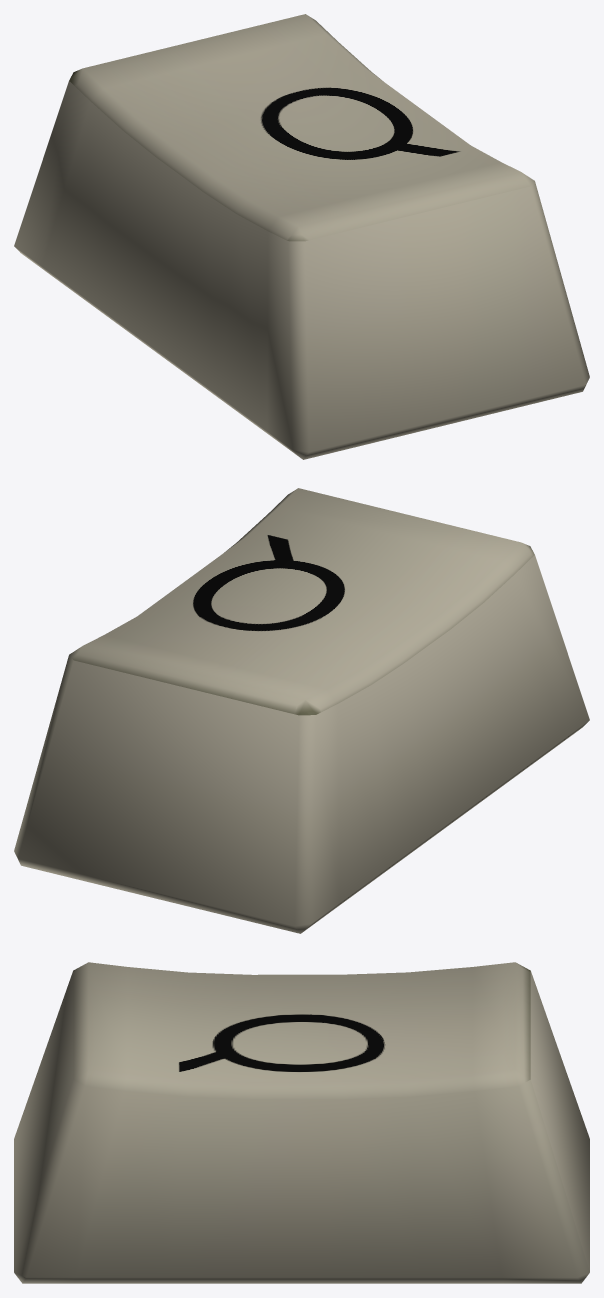
File: special_keycap.gltf
3 views of the same model, one above another, from view 1: azimuth 30°, elevation 25°; view 2: azimuth 150°, elevation 25°; view 3: azimuth 270°, elevation 25° (orthographic).
Visible parts, largest first — view 1: Cube.001; view 2: Cube.001; view 3: Cube.001.
Boxes of the visible parts, bbox=[...] form: Cube.001: bbox=[14, 14, 589, 459]; Cube.001: bbox=[14, 488, 589, 933]; Cube.001: bbox=[14, 962, 589, 1283].
Size of the model in its own units: 1.98 by 1.29 by 3.35.
